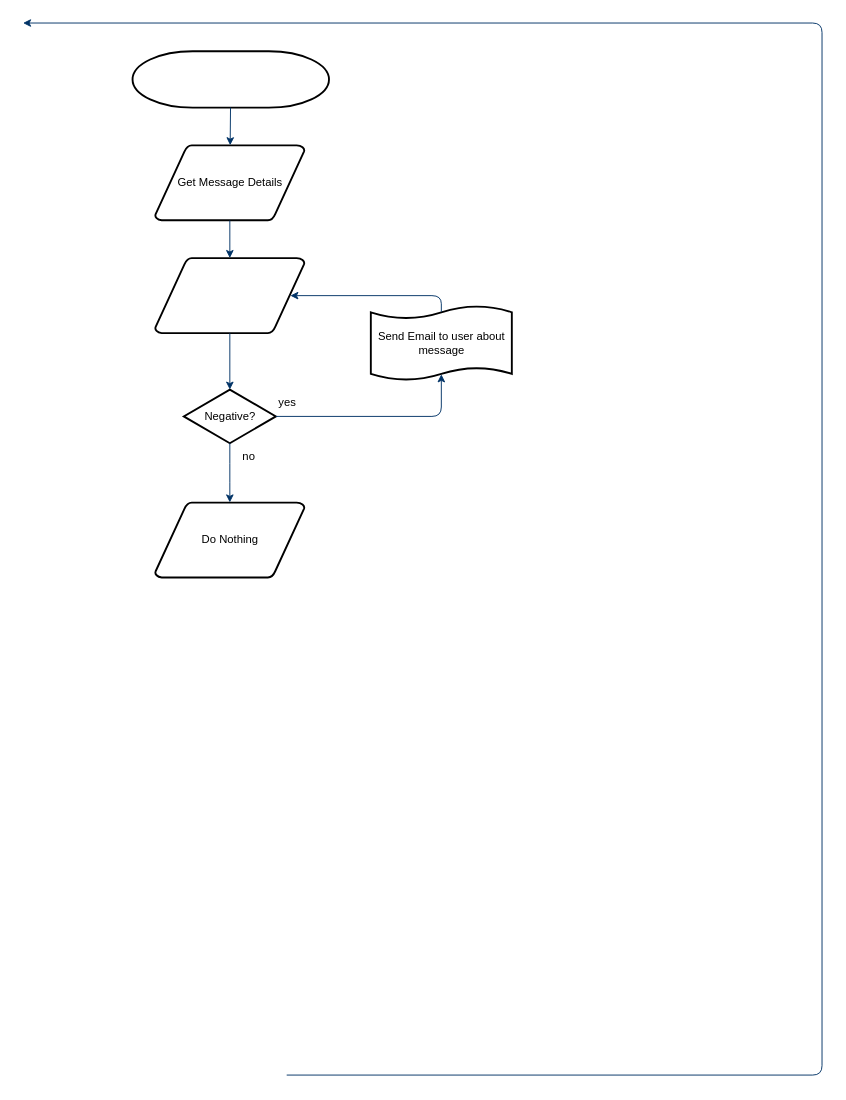
Some shapes in this 846 by 1100 pixel diagram are drawn without their labels. Each missing label, with the centre of its shape:
"Added Message to the Chat (trigger)" goes at point (230, 79).
"Send Request to Cognitive services (to check)" goes at point (229, 295).
